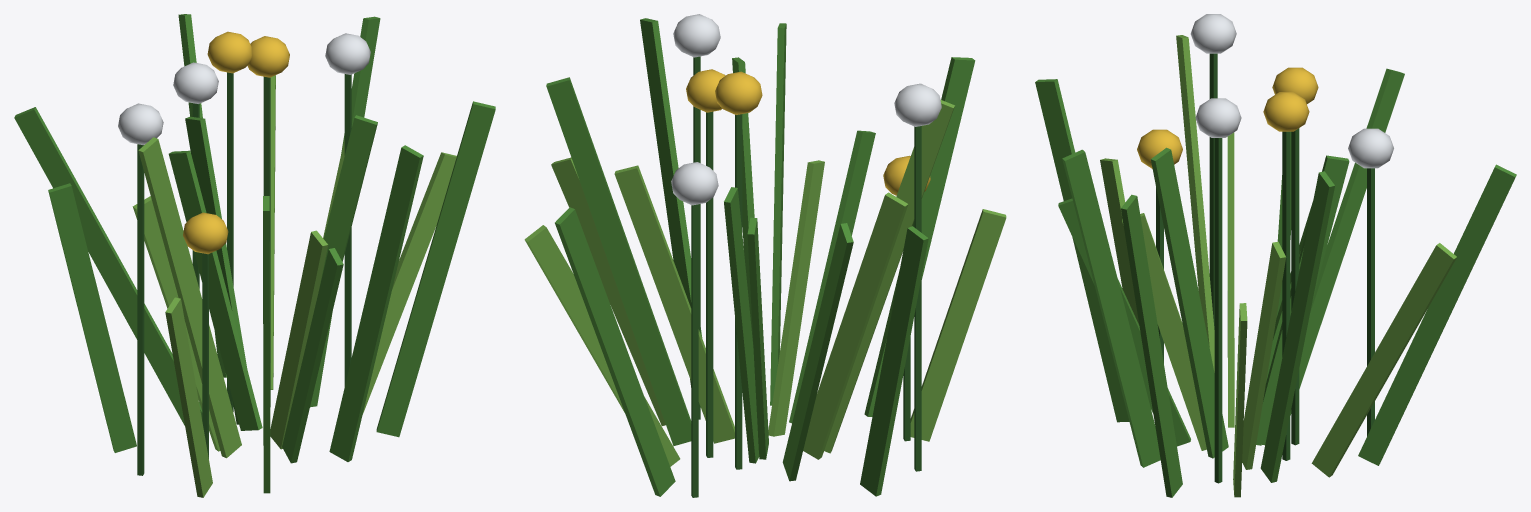
The model's file is buisson_prairie_1.glb.
The picture shows the model from 3 angles, left to right: view 1: azimuth 30°, elevation 25°; view 2: azimuth 150°, elevation 25°; view 3: azimuth 270°, elevation 25°; orthographic projection. The views are drawn at different scales.
Visible parts, largest first — view 1: herbe_feuille.002, herbe_feuille_claire.004, herbe_feuille_sombre.002, herbe_blanc.002, herbe_jaune.002; view 2: herbe_feuille.002, herbe_feuille_claire.004, herbe_feuille_sombre.002, herbe_blanc.002, herbe_jaune.002; view 3: herbe_feuille.002, herbe_feuille_claire.004, herbe_feuille_sombre.002, herbe_blanc.002, herbe_jaune.002.
Part boxes in pixels (box(x1,y1,x2,y2)): herbe_feuille.002: box(14, 14, 495, 493); herbe_feuille_claire.004: box(132, 75, 456, 497); herbe_feuille_sombre.002: box(137, 72, 351, 475); herbe_blanc.002: box(118, 33, 370, 145); herbe_jaune.002: box(183, 31, 289, 254); herbe_feuille.002: box(546, 18, 975, 496); herbe_feuille_claire.004: box(524, 99, 1006, 466); herbe_feuille_sombre.002: box(691, 56, 921, 497); herbe_blanc.002: box(671, 14, 941, 205); herbe_jaune.002: box(686, 69, 930, 195); herbe_feuille.002: box(1035, 68, 1516, 497); herbe_feuille_claire.004: box(1100, 35, 1456, 497); herbe_feuille_sombre.002: box(1156, 53, 1374, 483); herbe_blanc.002: box(1190, 14, 1393, 168); herbe_jaune.002: box(1137, 67, 1318, 168).
Size of the model in its own units: 0.6686 by 0.6467 by 0.7295.
